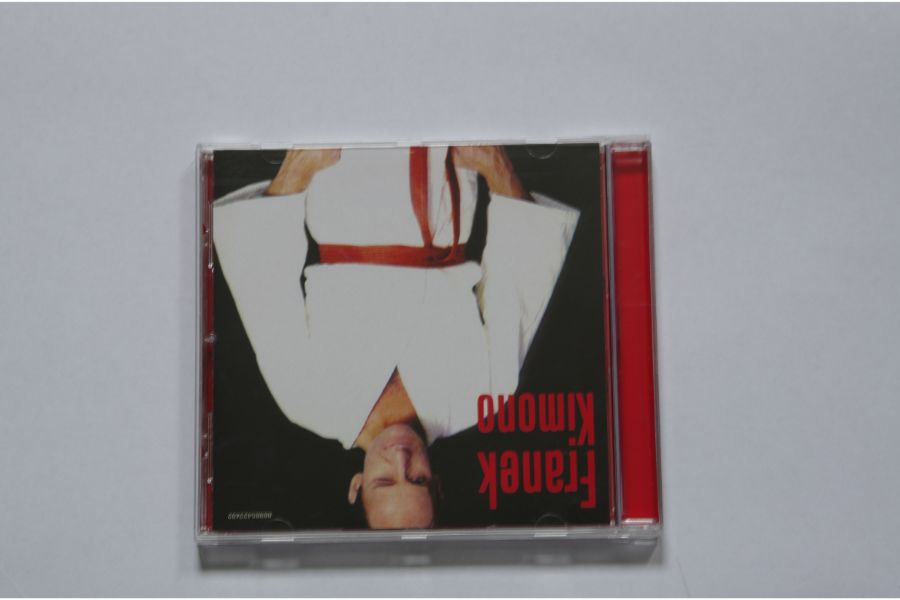album: (189, 134, 666, 547)
